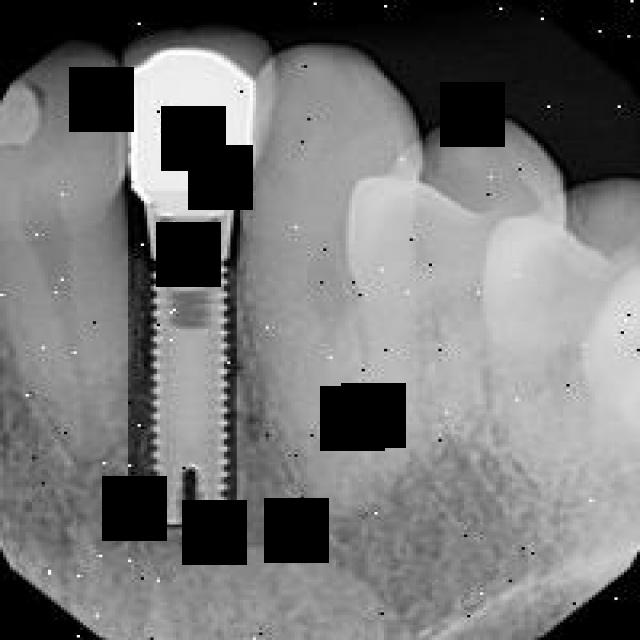Retained root: (128, 191, 237, 527)
